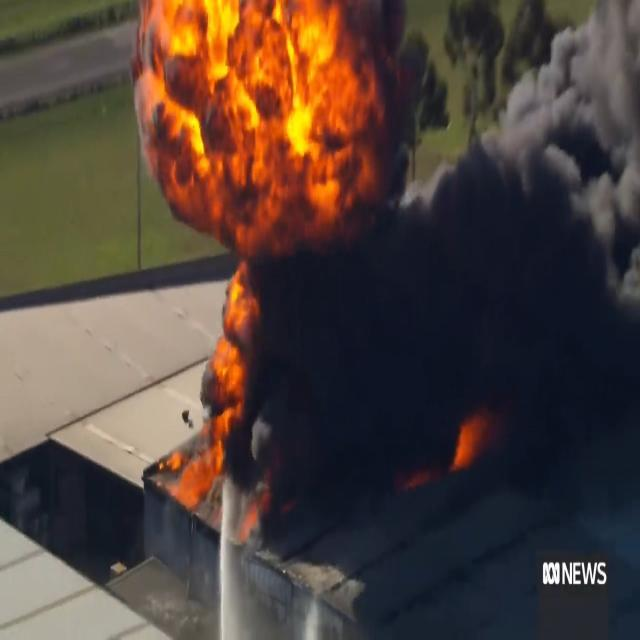fire: (137, 1, 380, 230), (216, 248, 286, 514), (448, 400, 482, 474)
